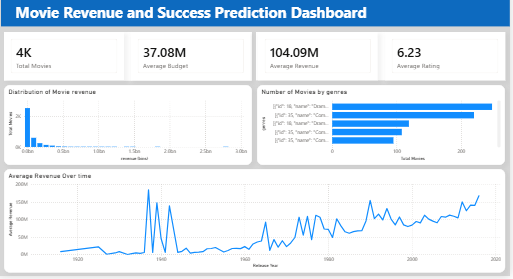

What the dashboard file says about the page in this screenshot:
{"tool":"powerbi","page":{"name":"Overview","canvas":[1280,720],"ordinal":0},"visuals":[{"type":"cardVisual","fields":{"Data":["tmdb_processed.Total Movies"]},"box":[15,110,300,120],"z":2000},{"type":"cardVisual","fields":{"Data":["tmdb_processed.Average Rating"]},"box":[967.6,109.2,300.7,120.9],"z":3000},{"type":"cardVisual","fields":{"Data":["tmdb_processed.Average Budget"]},"box":[332.6,109.2,299,120.9],"z":4000},{"type":"cardVisual","fields":{"Data":["tmdb_processed.Average Revenue"]},"box":[650.1,109.2,299,120.9],"z":5000},{"type":"textbox","box":[23,503,493,87],"z":6000},{"type":"clusteredColumnChart","title":"Distribution of Box Office Revenue ","fields":{"Category":["tmdb_processed.revenue (bins)"],"Y":["tmdb_processed.Total Movies"]},"box":[14.9,242.5,620,199.9],"z":7000},{"type":"clusteredBarChart","title":"Top Genres by Number of Movies","fields":{"Category":["tmdb_processed.genres.1"],"Y":["tmdb_processed.Total Movies"]},"box":[647.7,241.9,619.8,199.9],"z":8000},{"type":"lineChart","title":"Average Revenue Over time","fields":{"Category":["tmdb_processed.Release Year"],"Y":["tmdb_processed.Average Revenue"]},"box":[15.1,451.9,1253.1,258.7],"z":9000},{"type":"textbox","box":[8,30,1272,66],"z":10000}]}

Visuals, with their boxes on the page's 1280x720 design canvas (x1, y1, x2, y2). These are canvas units, not pixel positions in the 513x279 screenshot, which may show the page scaled, cropped or inside an application window:
cardVisual - tmdb_processed.Total Movies: (x1=15, y1=110, x2=315, y2=230)
cardVisual - tmdb_processed.Average Rating: (x1=968, y1=109, x2=1268, y2=230)
cardVisual - tmdb_processed.Average Budget: (x1=333, y1=109, x2=632, y2=230)
cardVisual - tmdb_processed.Average Revenue: (x1=650, y1=109, x2=949, y2=230)
textbox: (x1=23, y1=503, x2=516, y2=590)
"Distribution of Box Office Revenue " clusteredColumnChart: (x1=15, y1=242, x2=635, y2=442)
"Top Genres by Number of Movies" clusteredBarChart: (x1=648, y1=242, x2=1268, y2=442)
"Average Revenue Over time" lineChart: (x1=15, y1=452, x2=1268, y2=711)
textbox: (x1=8, y1=30, x2=1280, y2=96)
